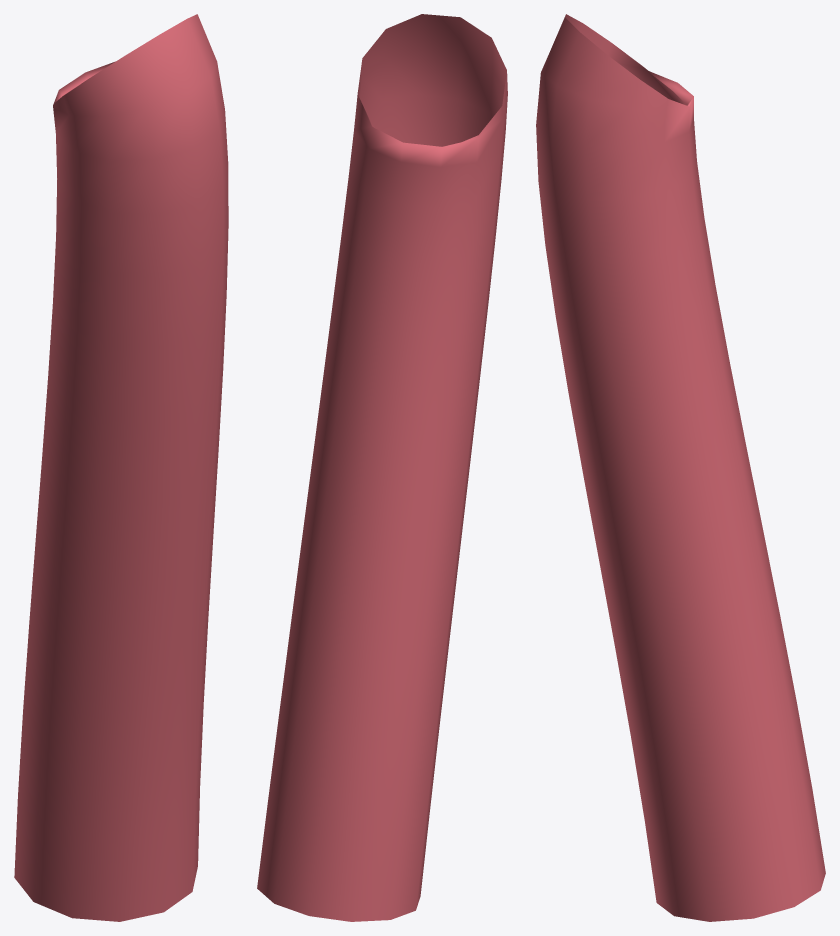
The picture shows the model from 3 angles, left to right: view 1: azimuth 30°, elevation 25°; view 2: azimuth 150°, elevation 25°; view 3: azimuth 270°, elevation 25°; orthographic projection. The views are drawn at different scales.
Visible parts, largest first — view 1: ZA_5b2ea3dda99313af; view 2: ZA_5b2ea3dda99313af; view 3: ZA_5b2ea3dda99313af.
Boxes of the visible parts, x1,y1,x2,y2 form: ZA_5b2ea3dda99313af: (14,14,228,921); ZA_5b2ea3dda99313af: (257,14,507,921); ZA_5b2ea3dda99313af: (536,14,825,921).
Bounding box in the file's own units: 0.00263 × 0.0122 × 0.0037.
